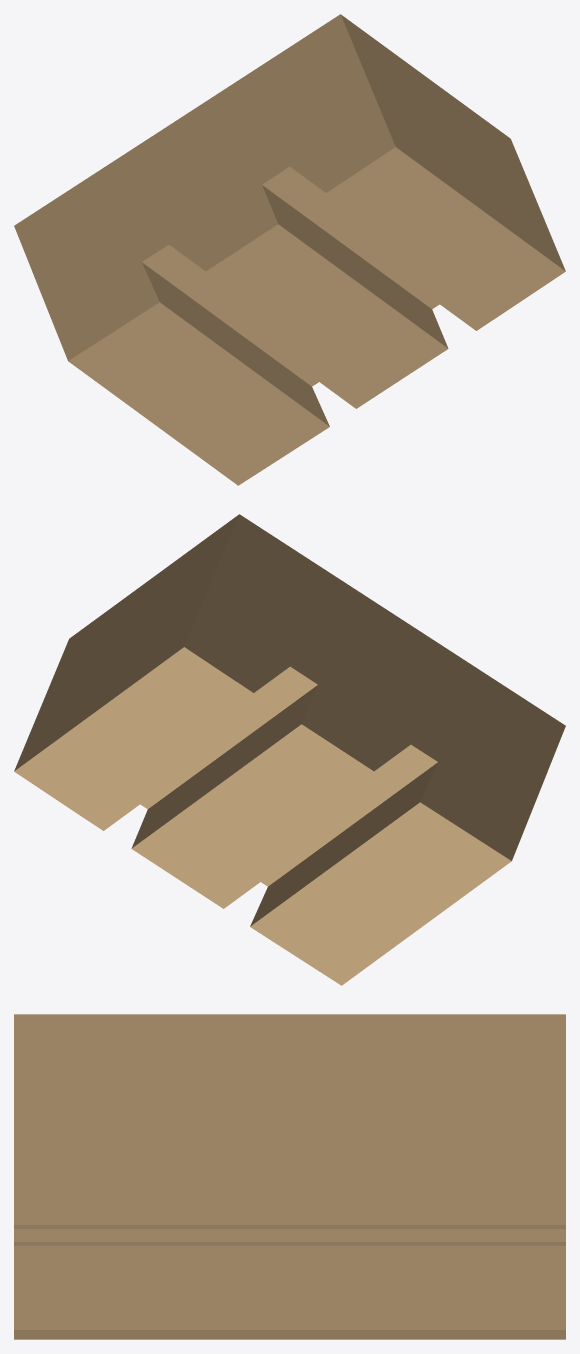
3 renders of one model, top to bottom at view 1: azimuth 30°, elevation 25°; view 2: azimuth 150°, elevation 25°; view 3: azimuth 270°, elevation 25°, orthographic. The views are drawn at different scales.
Parts seen in each view (by area): view 1: 0_0_3_2_0_1_3_1; view 2: 0_0_3_2_0_1_3_1; view 3: 0_0_3_2_0_1_3_1.
Part boxes in pixels (x1,y1,x2,y2): 0_0_3_2_0_1_3_1: (14, 14, 565, 485); 0_0_3_2_0_1_3_1: (14, 514, 565, 985); 0_0_3_2_0_1_3_1: (14, 1014, 565, 1339).
Size of the model in its own units: 34.95 by 24.55 by 27.
